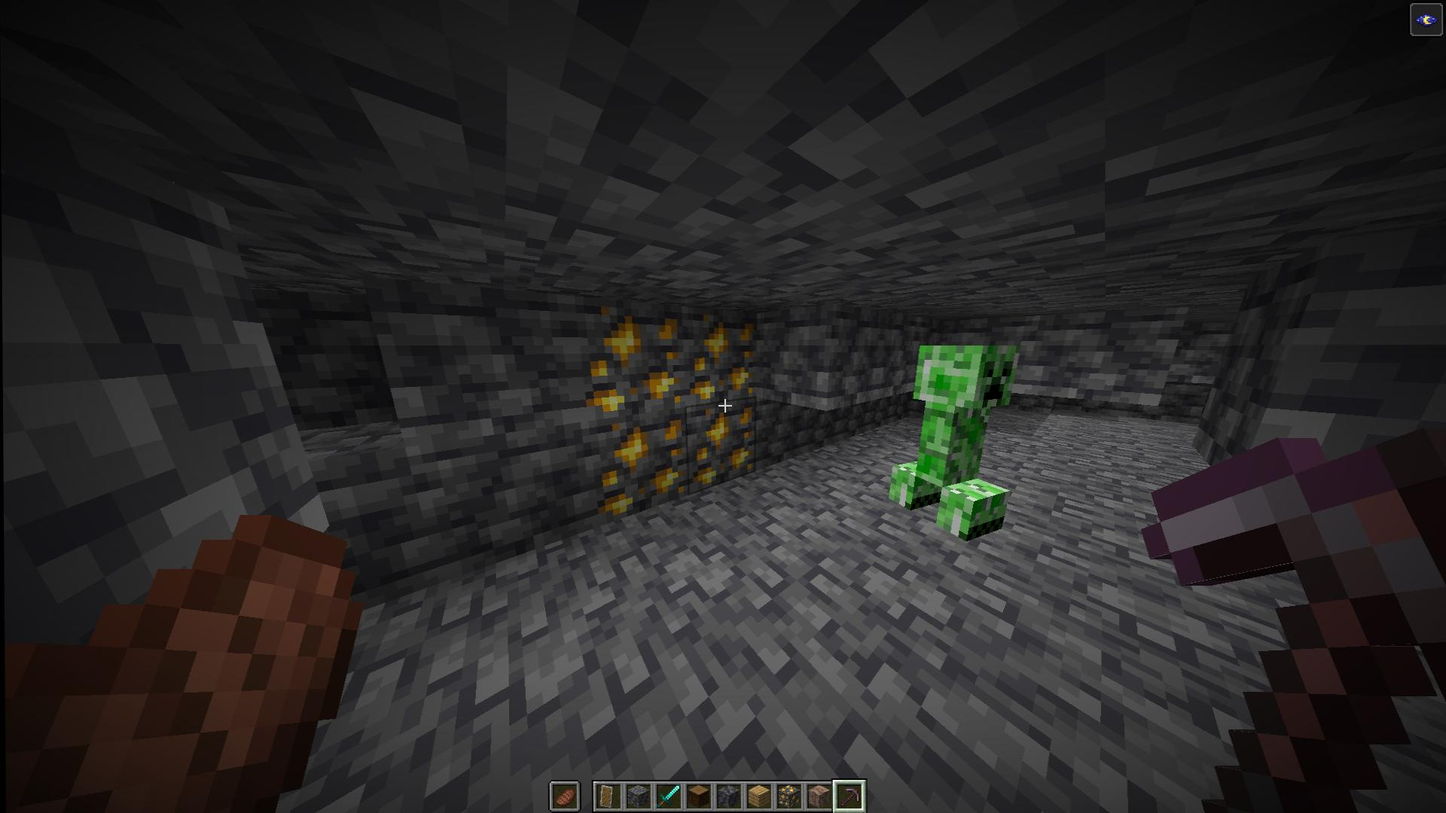gold ore: (581, 298, 685, 414), (596, 415, 687, 507), (684, 306, 757, 404), (687, 401, 754, 482)
